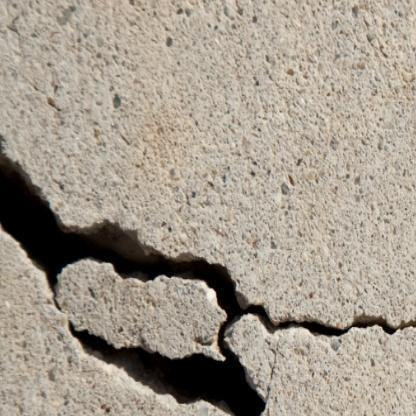Cracks: (0, 115, 416, 416)
